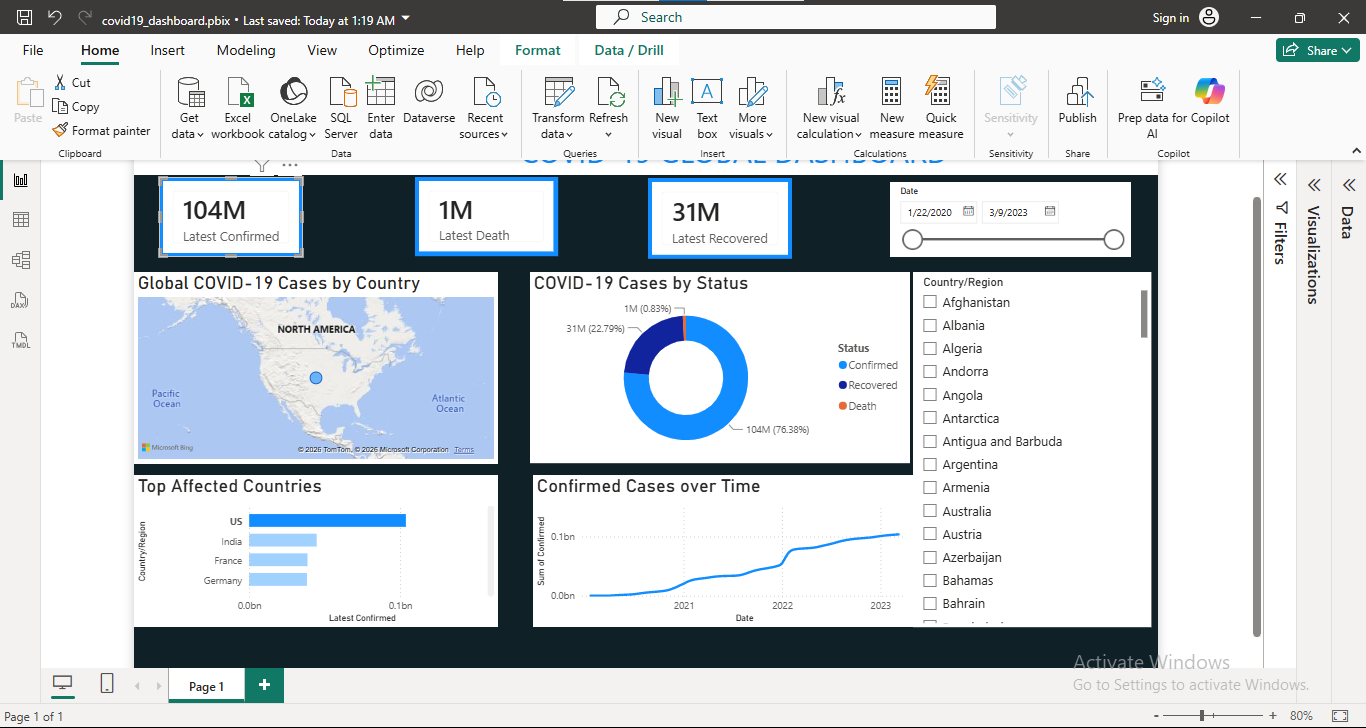

Layout of this report page (visuals, bound fields, positions):
{"tool":"powerbi","page":{"name":"Page 1","canvas":[1280,720],"ordinal":0},"visuals":[{"type":"actionButton","box":[0,0,100,40],"z":0},{"type":"cardVisual","fields":{"Data":["time_series_covid19_comfirmed_global csv.Lastest Confirmed"]},"box":[31.2,62.5,180,100],"z":1000},{"type":"cardVisual","fields":{"Data":["time_series_covid19_deaths_global csv.Lastest Death"]},"box":[351.2,62.5,178.8,98.8],"z":2000},{"type":"cardVisual","fields":{"Data":["time_series_covid19_recovered_global csv.Latest Recovered"]},"box":[642.5,63.8,180,101.2],"z":3000},{"type":"lineChart","title":"Confirmed Cases over Time","fields":{"Category":["time_series_covid19_comfirmed_global csv.Date"],"Y":["Sum(time_series_covid19_comfirmed_global csv.Confirmed)"]},"box":[498.8,435,475,190],"z":4000},{"type":"clusteredBarChart","title":"Top Affected Countries","fields":{"Category":["time_series_covid19_comfirmed_global csv.Country/Region"],"Y":["time_series_covid19_comfirmed_global csv.Lastest Confirmed"]},"box":[0,435,455,190],"z":5000},{"type":"donutChart","title":"COVID-19 Cases by Status","fields":{"Category":["KPI Status.Status"],"Y":["Sum(KPI Status.Values)"]},"box":[495,181.2,475,238.8],"z":6000},{"type":"map","title":"Global COVID-19 Cases by Country","fields":{"Category":["time_series_covid19_comfirmed_global csv.Country/Region"],"Y":["Avg(time_series_covid19_comfirmed_global csv.Lat)"],"X":["Avg(time_series_covid19_comfirmed_global csv.Long)"],"Size":["time_series_covid19_comfirmed_global csv.Latest Confirmed"]},"box":[0,181.2,455,238.8],"z":7000},{"type":"slicer","fields":{"Values":["time_series_covid19_comfirmed_global csv.Country/Region"]},"box":[973.8,181.2,297.5,443.8],"z":8000},{"type":"slicer","fields":{"Values":["time_series_covid19_comfirmed_global csv.Date"]},"box":[945,68.8,301.2,92.5],"z":9000},{"type":"textbox","box":[0,0,1500,60],"z":10000}]}

Visuals, with their boxes on the page's 1280x720 design canvas (x1, y1, x2, y2). These are canvas units, not pixel positions in the 1366x728 screenshot, which may show the page scaled, cropped or inside an application window:
actionButton: locate(0, 0, 100, 40)
cardVisual - time_series_covid19_comfirmed_global csv.Lastest Confirmed: locate(31, 62, 211, 162)
cardVisual - time_series_covid19_deaths_global csv.Lastest Death: locate(351, 62, 530, 161)
cardVisual - time_series_covid19_recovered_global csv.Latest Recovered: locate(642, 64, 822, 165)
"Confirmed Cases over Time" lineChart: locate(499, 435, 974, 625)
"Top Affected Countries" clusteredBarChart: locate(0, 435, 455, 625)
"COVID-19 Cases by Status" donutChart: locate(495, 181, 970, 420)
"Global COVID-19 Cases by Country" map: locate(0, 181, 455, 420)
slicer - time_series_covid19_comfirmed_global csv.Country/Region: locate(974, 181, 1271, 625)
slicer - time_series_covid19_comfirmed_global csv.Date: locate(945, 69, 1246, 161)
textbox: locate(0, 0, 1500, 60)
